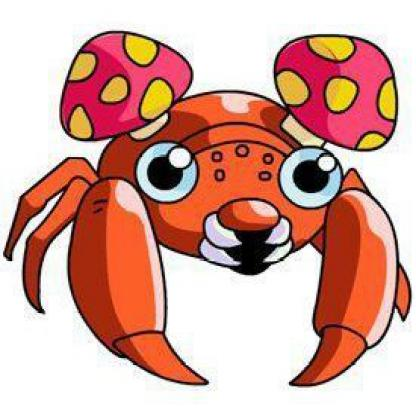Paras: (4, 28, 416, 393)
